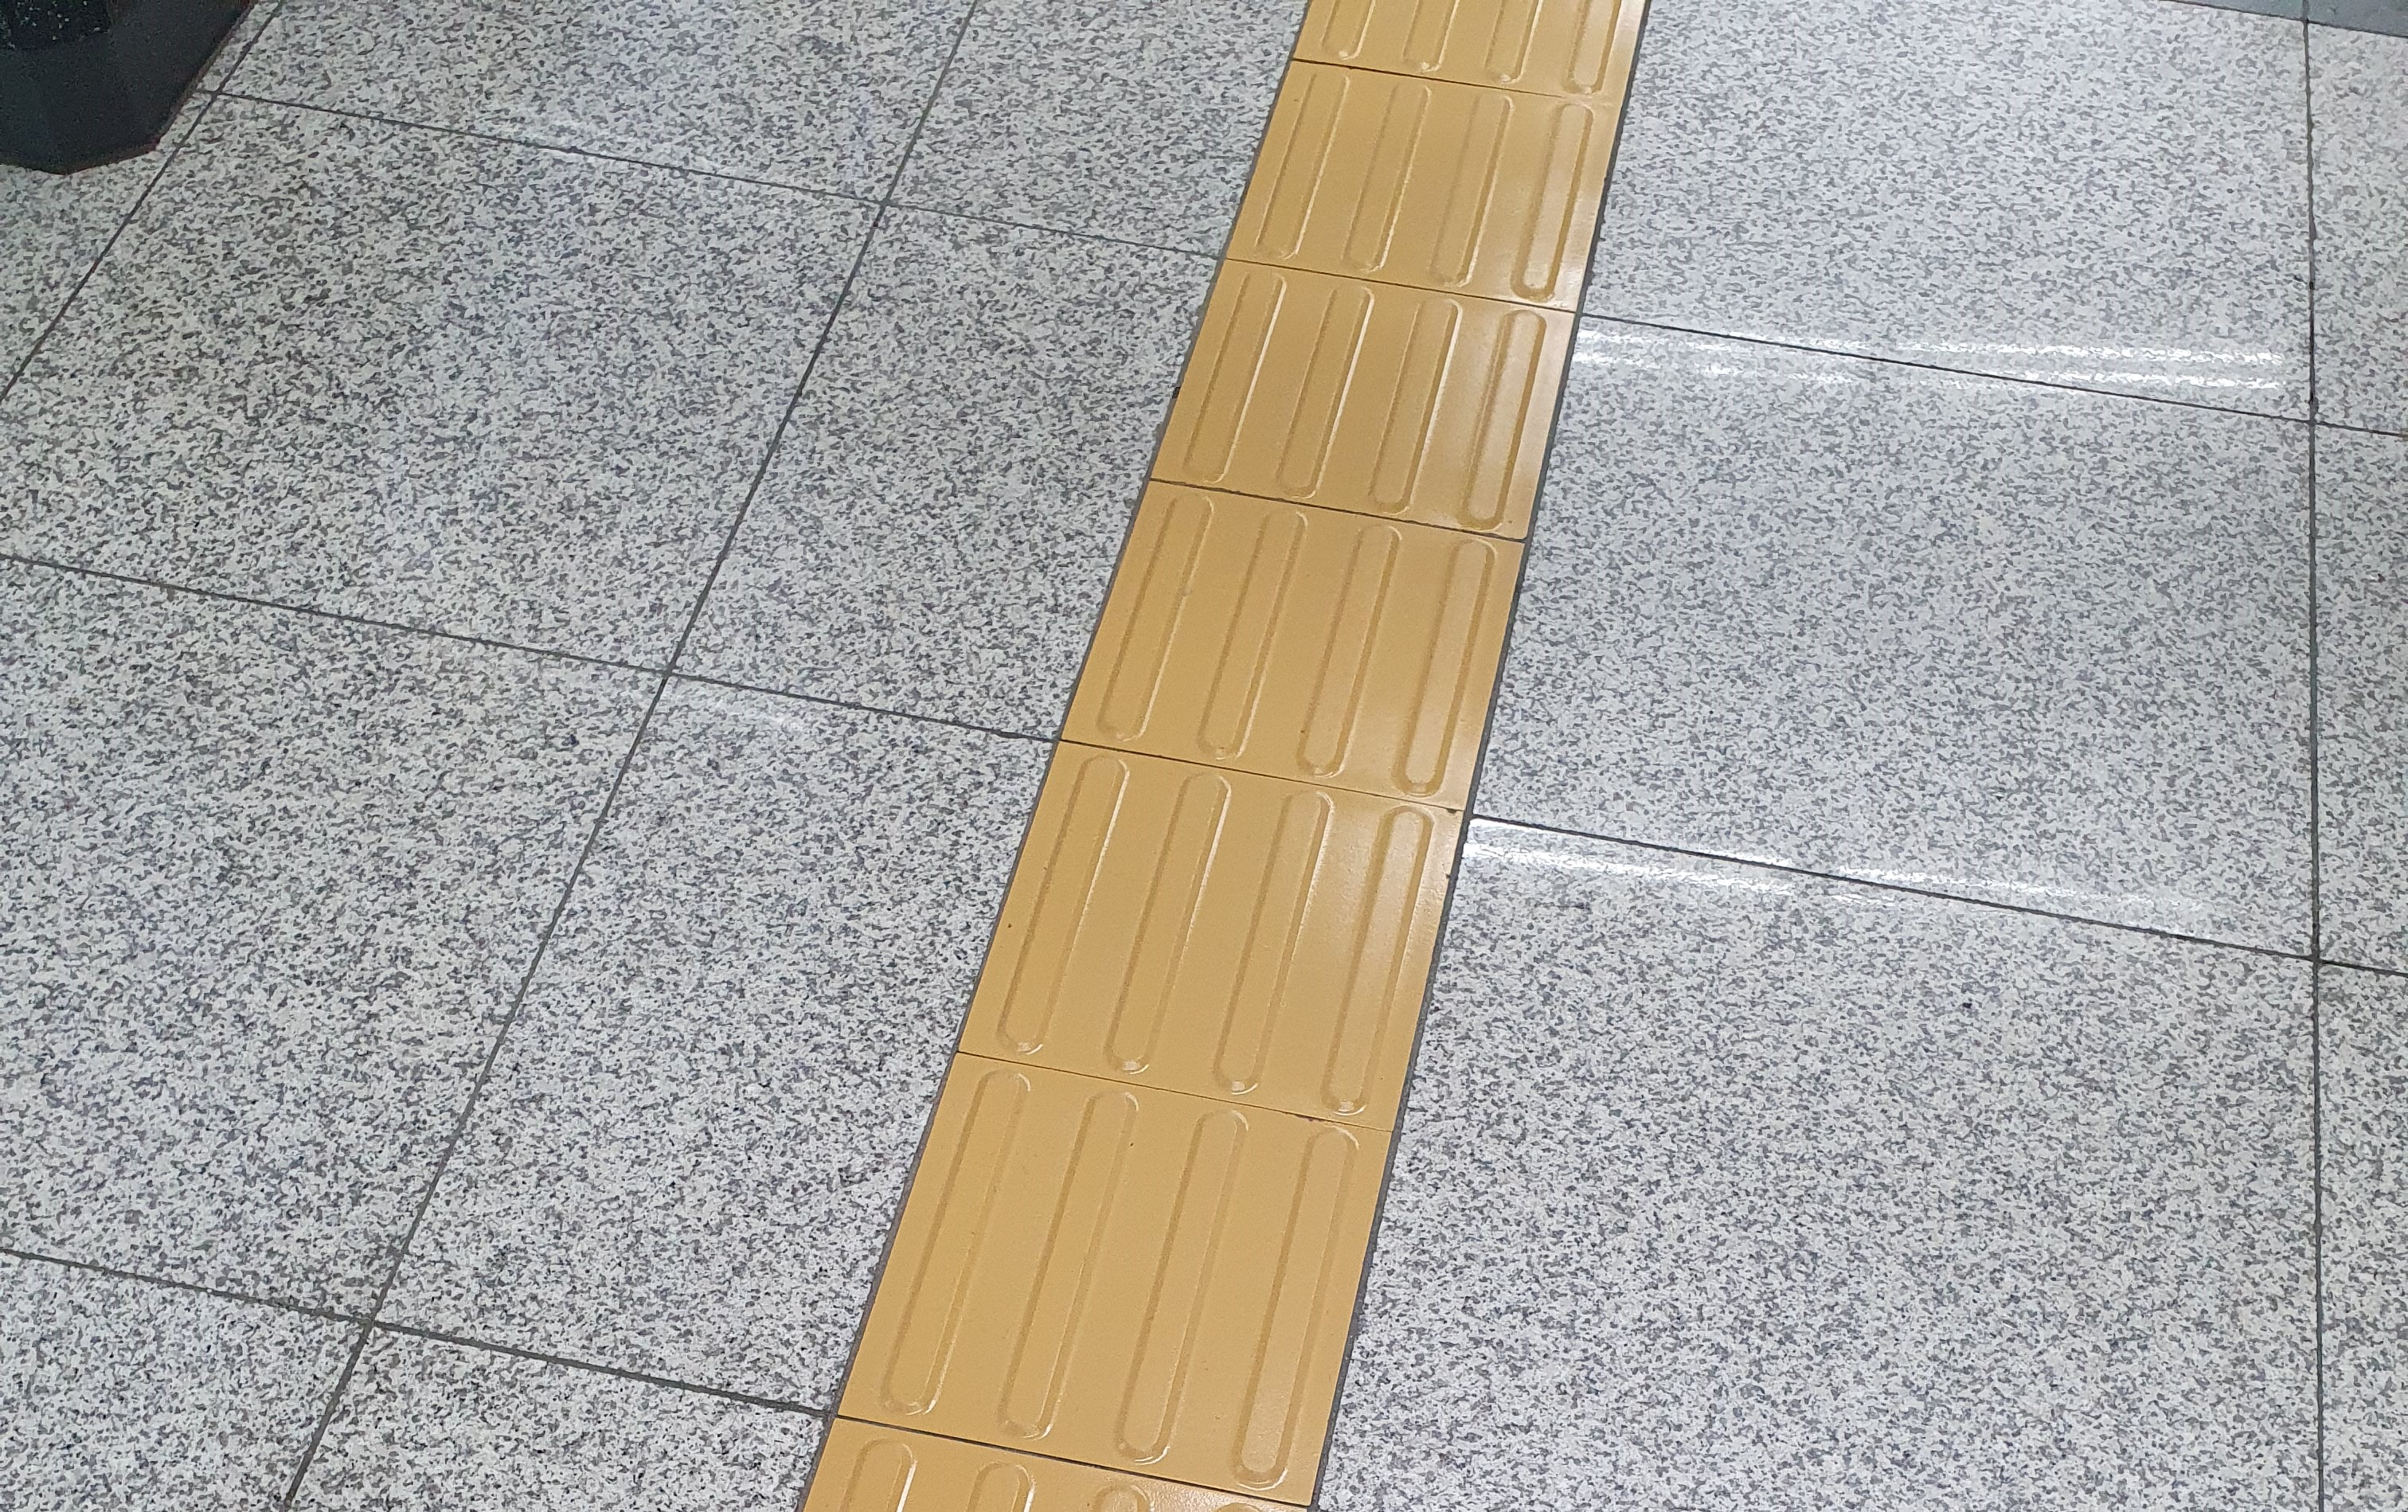guideBlock: (878, 1071, 1419, 1458), (989, 746, 1466, 1101), (1137, 256, 1619, 563), (1083, 467, 1489, 789), (1248, 87, 1612, 319), (1250, 0, 1656, 113)
